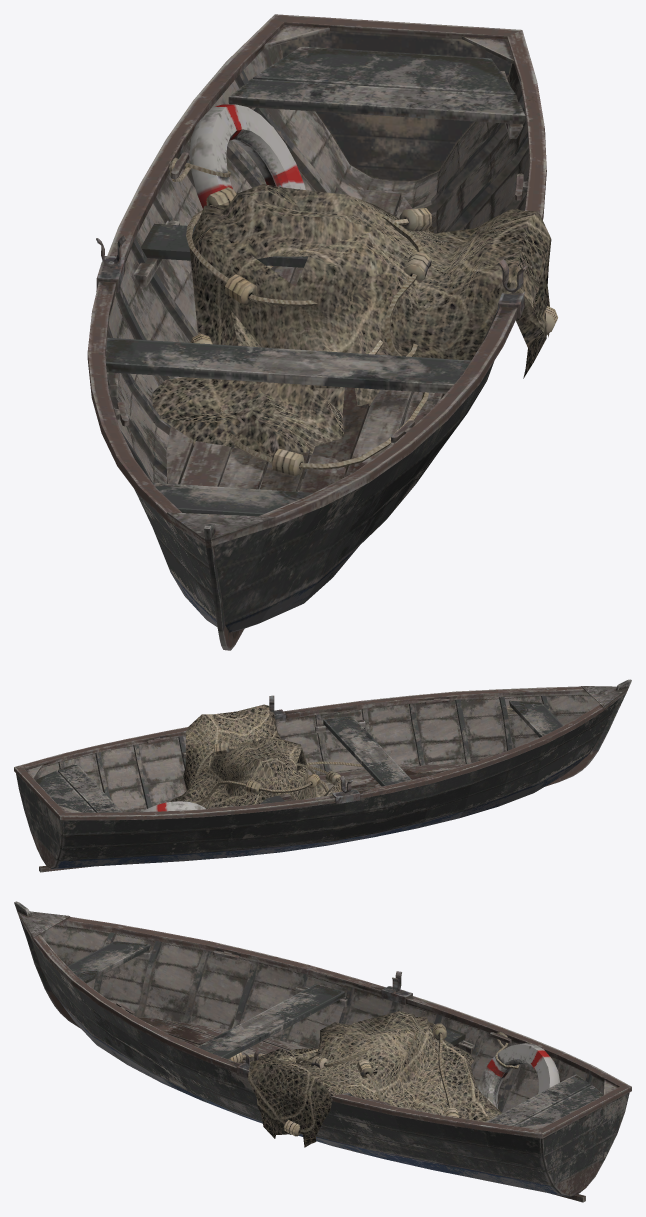
Rendered from SandyBeach_Boat02.fbx.
The picture shows the model from 3 angles, top to bottom: view 1: azimuth 30°, elevation 25°; view 2: azimuth 150°, elevation 25°; view 3: azimuth 270°, elevation 25°; orthographic projection. The views are drawn at different scales.
Visible parts, largest first — view 1: ItemBox_Boat; view 2: ItemBox_Boat; view 3: ItemBox_Boat.
Part boxes in pixels (<box>): ItemBox_Boat: <box>87,14,557,650</box>; ItemBox_Boat: <box>14,679,631,872</box>; ItemBox_Boat: <box>14,901,631,1202</box>.
Size of the model in its own units: 486 by 125 by 583.
1 material, 1 textured.
